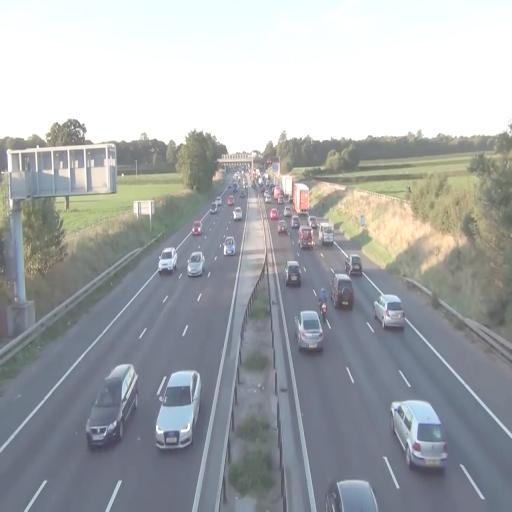vehicle: (86, 364, 138, 450), (390, 398, 449, 470), (154, 370, 202, 450), (324, 478, 378, 511), (296, 309, 325, 353), (374, 293, 404, 330), (330, 272, 355, 310), (292, 180, 309, 218), (158, 247, 178, 274), (284, 261, 302, 288), (187, 250, 205, 276), (345, 254, 363, 278), (298, 224, 314, 248), (223, 235, 237, 256), (231, 202, 244, 222), (268, 206, 278, 221), (192, 222, 202, 235)
